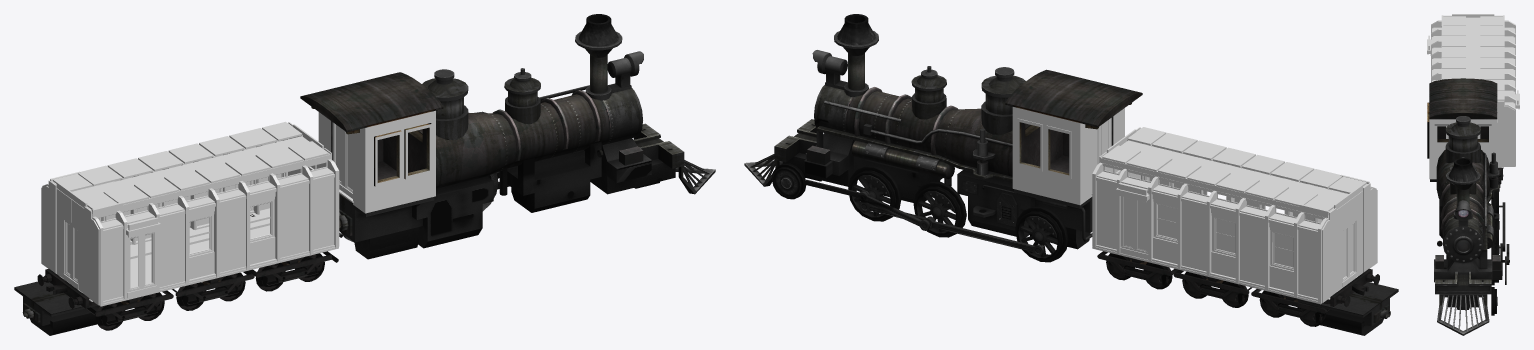
The model's file is SC03_TRAIN_RIDE_v20_TrainMergeSolo.fbx.
3 views of the same model, side by side, from view 1: azimuth 30°, elevation 25°; view 2: azimuth 150°, elevation 25°; view 3: azimuth 270°, elevation 25° (orthographic). The views are drawn at different scales.
Parts seen in each view (by area): view 1: Plane.091, Cube.044, Plane.001, Cube.077, Cube.046; view 2: Plane.091, Cube.044, Plane.001, Cube.024, Cube.025; view 3: Plane.091, Cube.044.
Part boxes in pixels (x1=…): Plane.091: x1=300, y1=14, x2=715, y2=259; Cube.044: x1=37, y1=121, x2=339, y2=330; Plane.001: x1=14, y1=281, x2=99, y2=335; Cube.077: x1=142, y1=231, x2=157, y2=294; Cube.046: x1=127, y1=234, x2=142, y2=298; Plane.091: x1=744, y1=14, x2=1142, y2=262; Cube.044: x1=1092, y1=127, x2=1379, y2=326; Plane.001: x1=1297, y1=282, x2=1398, y2=335; Cube.024: x1=1120, y1=196, x2=1134, y2=256; Cube.025: x1=1134, y1=199, x2=1148, y2=259; Plane.091: x1=1427, y1=78, x2=1509, y2=335; Cube.044: x1=1427, y1=14, x2=1519, y2=187.
Bounding box in the file's own units: 2514 × 655 × 406.
